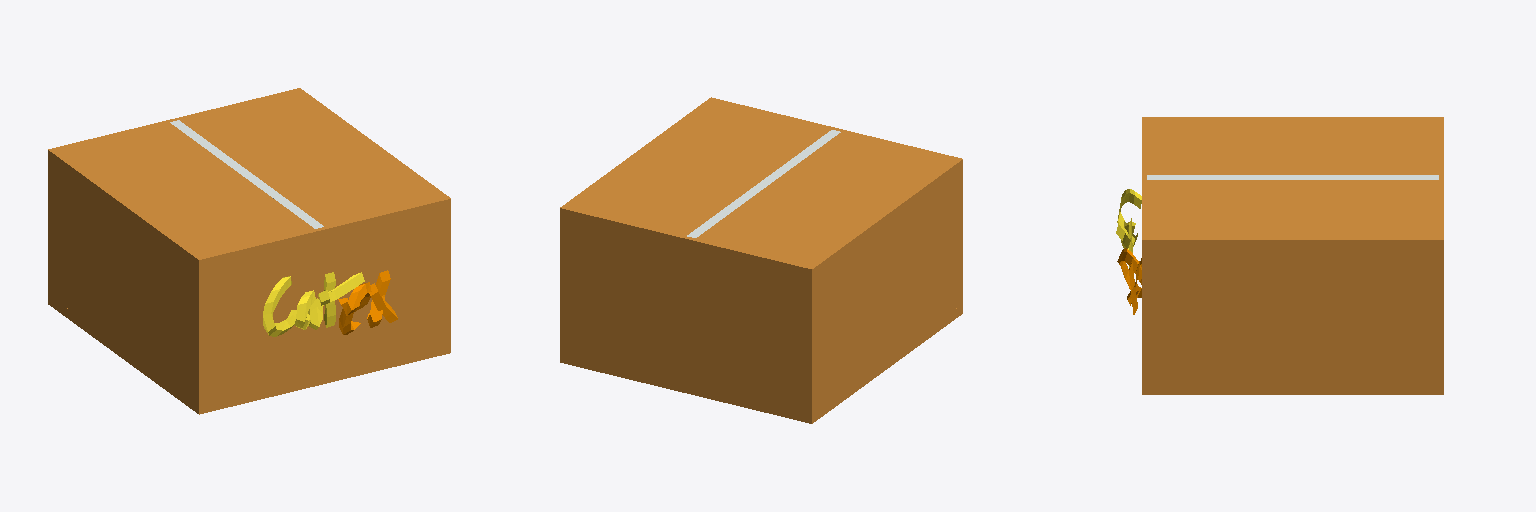
Rendered from model-triangulated.obj.
3 views of the same model, side by side, from view 1: azimuth 30°, elevation 25°; view 2: azimuth 150°, elevation 25°; view 3: azimuth 270°, elevation 25° (orthographic).
Visible parts, largest first — view 1: group[number redacted], group[number redacted], group[number redacted], group[number redacted], group[number redacted], group[number redacted], group[number redacted], group[number redacted], group[number redacted], group[number redacted], group[number redacted]; view 2: group[number redacted], group[number redacted], group[number redacted], group[number redacted], group[number redacted], group[number redacted]; view 3: group[number redacted], group[number redacted], group[number redacted], group[number redacted], group[number redacted].
Boxes of the visible parts, x1,y1,x2,y2 form: group[number redacted]: [53, 92, 450, 269]; group[number redacted]: [193, 200, 446, 404]; group[number redacted]: [53, 164, 192, 399]; group[number redacted]: [48, 295, 450, 414]; group[number redacted]: [48, 88, 304, 297]; group[number redacted]: [170, 120, 323, 228]; group[number redacted]: [263, 276, 296, 336]; group[number redacted]: [338, 282, 371, 334]; group[number redacted]: [294, 290, 323, 329]; group[number redacted]: [447, 199, 450, 343]; group[number redacted]: [318, 272, 364, 305]; group[number redacted]: [560, 204, 817, 413]; group[number redacted]: [566, 97, 962, 274]; group[number redacted]: [818, 173, 957, 409]; group[number redacted]: [560, 304, 962, 423]; group[number redacted]: [687, 130, 840, 237]; group[number redacted]: [958, 170, 962, 306]; group[number redacted]: [1142, 240, 1438, 384]; group[number redacted]: [1142, 117, 1443, 249]; group[number redacted]: [1142, 385, 1443, 394]; group[number redacted]: [1433, 117, 1443, 384]; group[number redacted]: [1147, 175, 1438, 179].
Bounding box in the file's own units: 0.53 × 0.31 × 0.597.